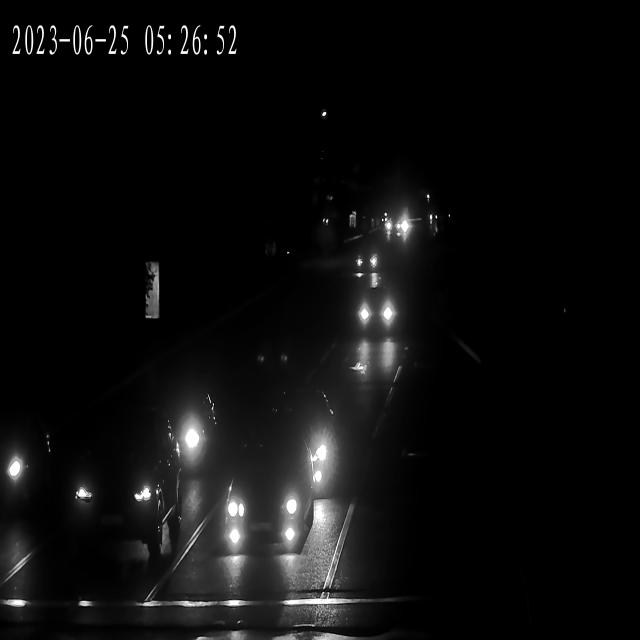Car: (64, 414, 178, 565), (217, 434, 315, 562), (259, 391, 356, 498), (154, 386, 227, 491), (5, 409, 50, 519), (352, 289, 400, 345), (384, 206, 418, 243), (350, 242, 384, 274)
